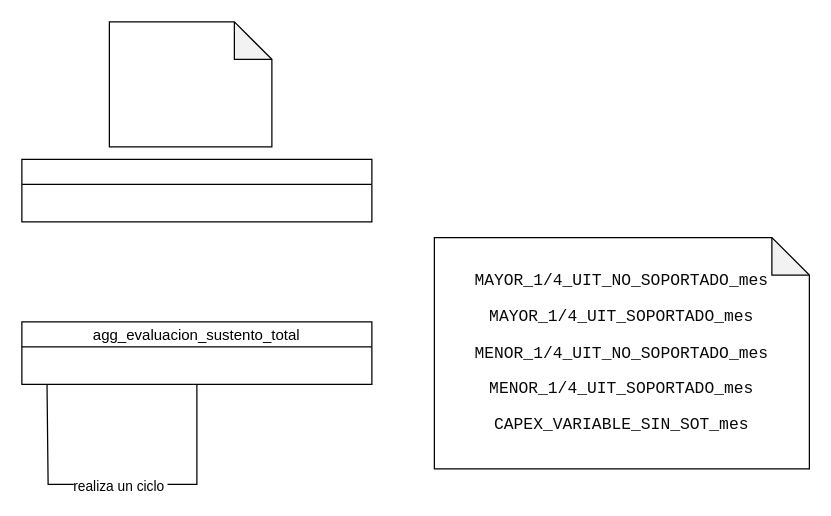
Some shapes in this 831 by 516 pixel diagram are drawn without their labels. The box of each missing label's shape, as (x1, y1, x2, y2) in pixels:
agg_evaluacion_sustento_total_bkp_10082023_ok: (21, 158, 372, 222)
contiene data 2021, 2022 ,2023 hasta mayo: (108, 21, 272, 147)
